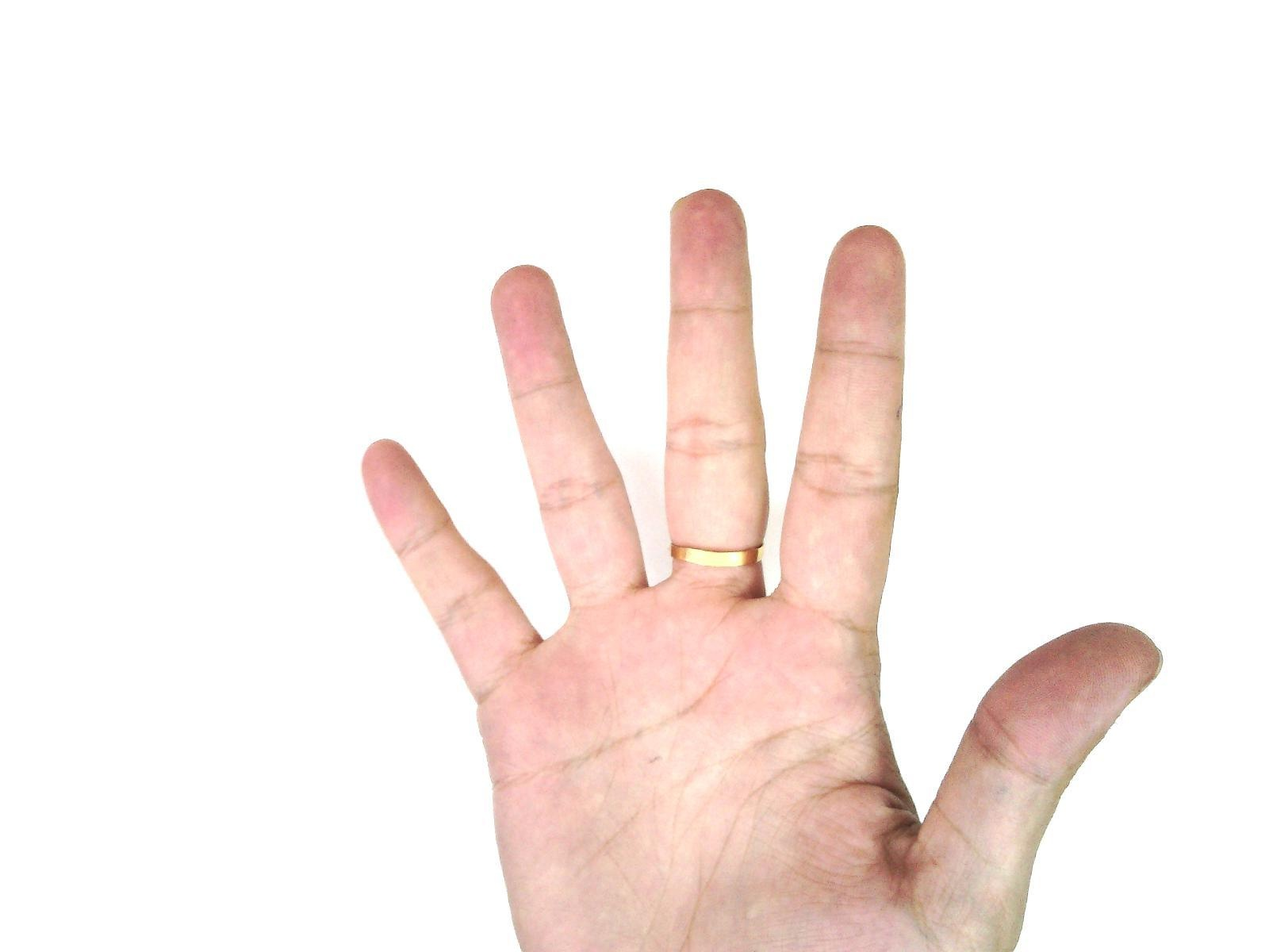open_palm: (358, 187, 1164, 952)
